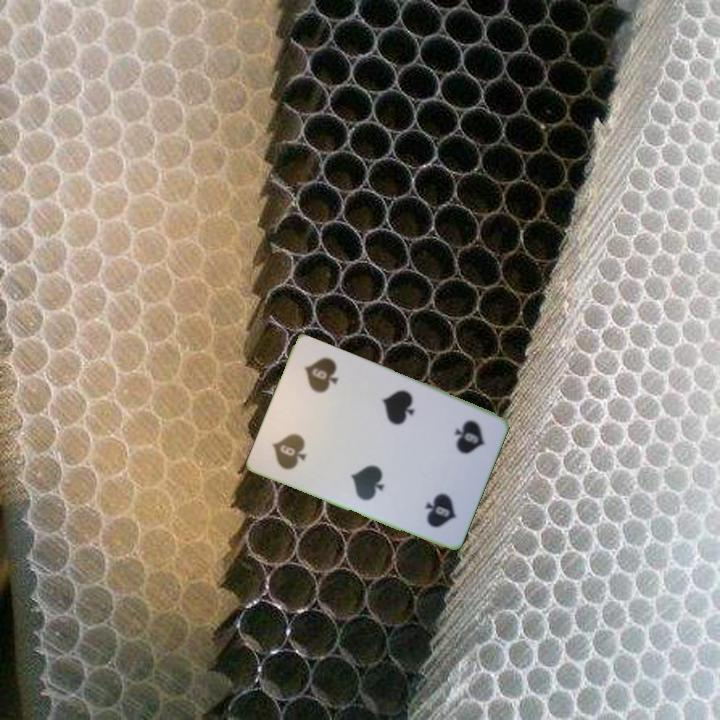s_6.png: (422, 402, 499, 484), (257, 402, 334, 484)
